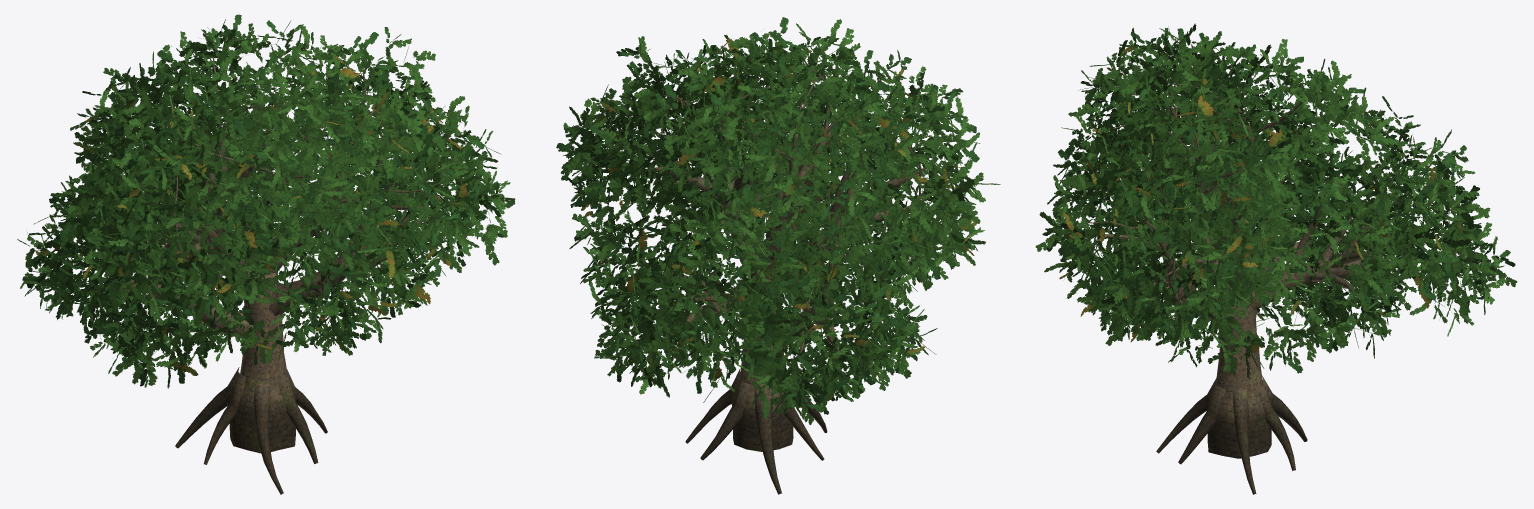
Rendered from hero-oak-near.glb.
3 views of the same model, side by side, from view 1: azimuth 30°, elevation 25°; view 2: azimuth 150°, elevation 25°; view 3: azimuth 270°, elevation 25° (orthographic). The views are drawn at different scales.
Visible parts, largest first — view 1: Foliage, Wood; view 2: Foliage, Wood; view 3: Foliage, Wood.
Boxes of the visible parts, <box> form: Foliage: <box>17,14,515,388</box>; Wood: <box>97,54,447,494</box>; Foliage: <box>556,17,1000,424</box>; Wood: <box>645,67,926,494</box>; Foliage: <box>1035,23,1517,379</box>; Wood: <box>1088,84,1414,494</box>.
Size of the model in its own units: 19.55 by 19.19 by 20.07.
Materials: 2 (2 with a texture image).
